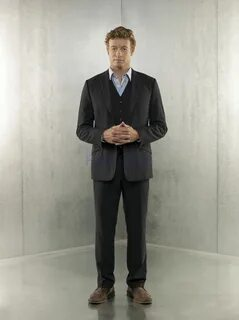awake: (75, 25, 168, 305)
